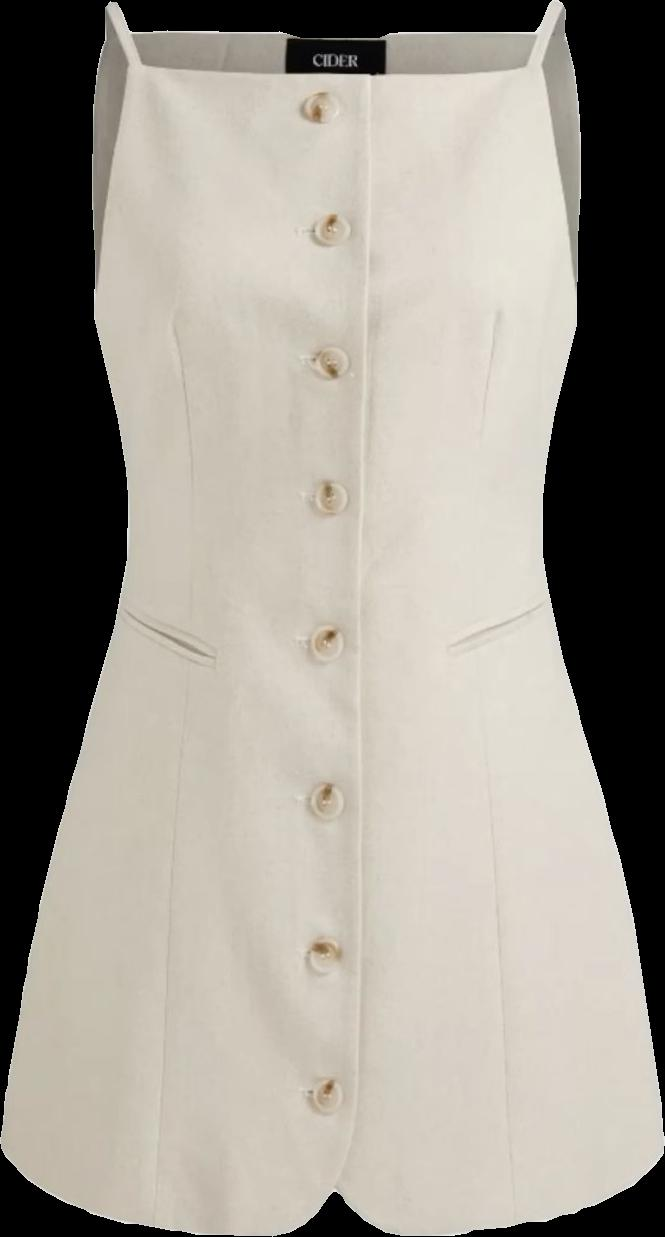Bodice: (92, 0, 580, 558)
Hemline: (0, 1136, 664, 1236)
Neckline: (105, 0, 560, 88)
Skirt: (1, 559, 663, 1234)
